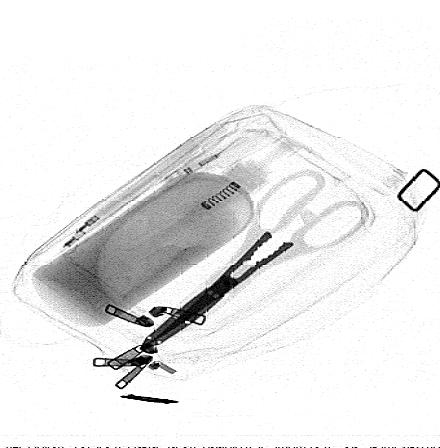Scissors: (139, 168, 371, 350)
